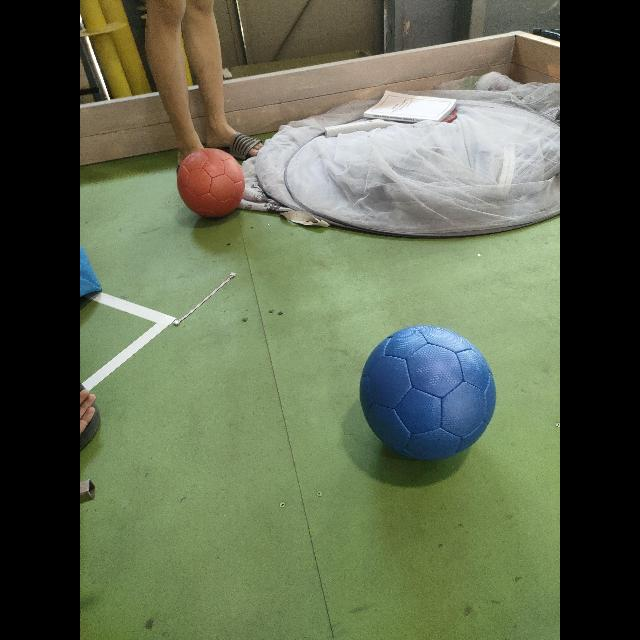B: (360, 325, 496, 460)
R: (178, 149, 245, 218)
